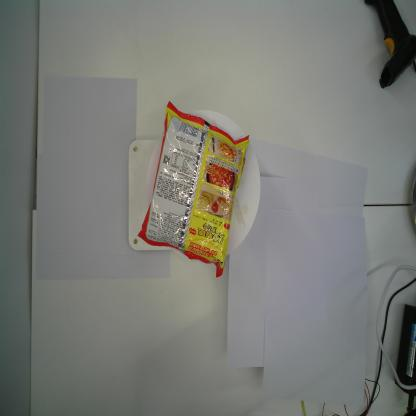Instant Noodles: (135, 99, 251, 279)
